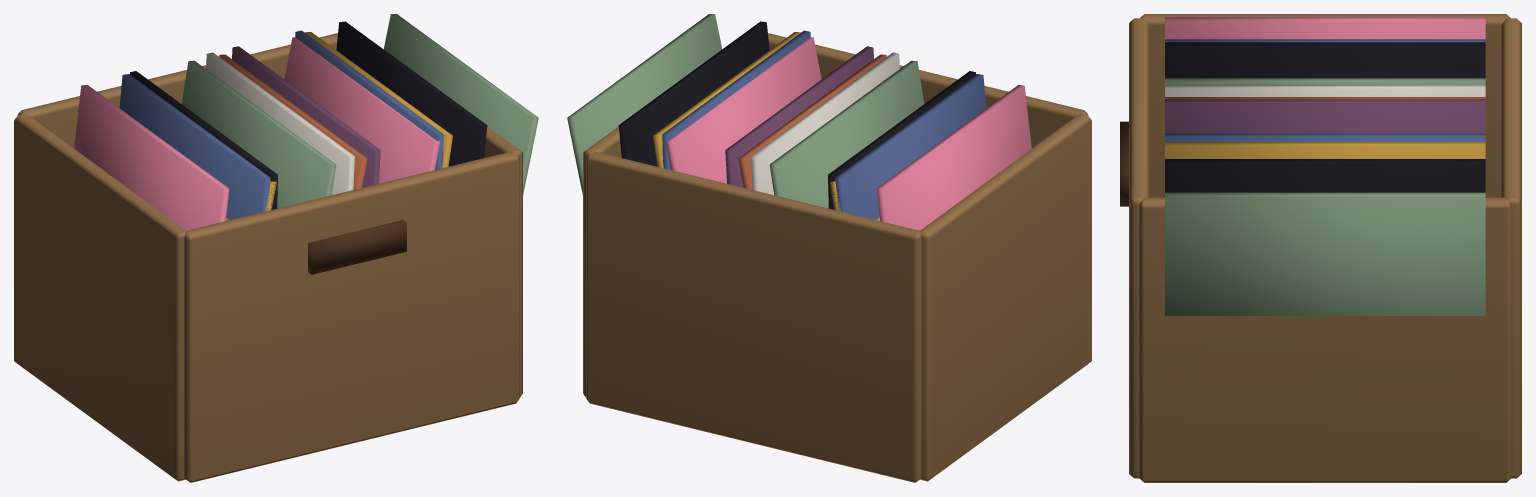
Rendered from record_crate.glb.
3 renders of one model, left to right at view 1: azimuth 30°, elevation 25°; view 2: azimuth 150°, elevation 25°; view 3: azimuth 270°, elevation 25°, orthographic. The views are drawn at different scales.
Visible parts, largest first — view 1: record_crate; view 2: record_crate; view 3: record_crate.
Part boxes in pixels (<box>): record_crate: <box>14,14,538,482</box>; record_crate: <box>567,14,1091,482</box>; record_crate: <box>1120,14,1521,482</box>.
Bounding box in the file's own units: 0.4715 × 0.33 × 0.3885.
